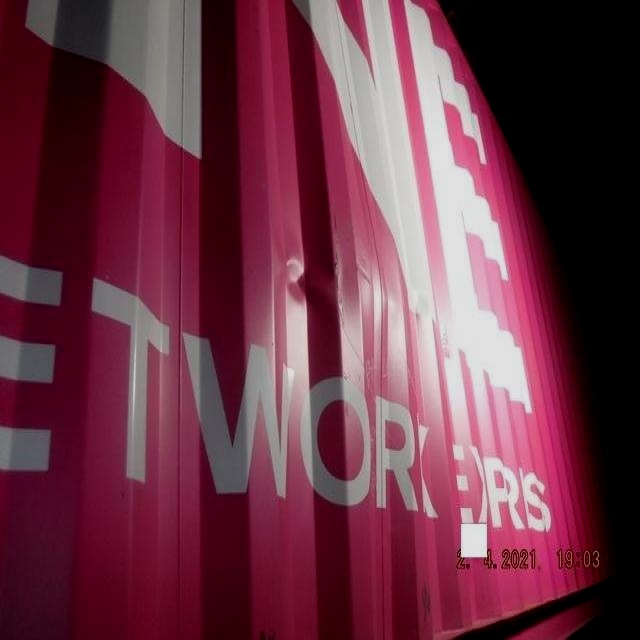Dent: (323, 167, 456, 423), (267, 241, 317, 317)
